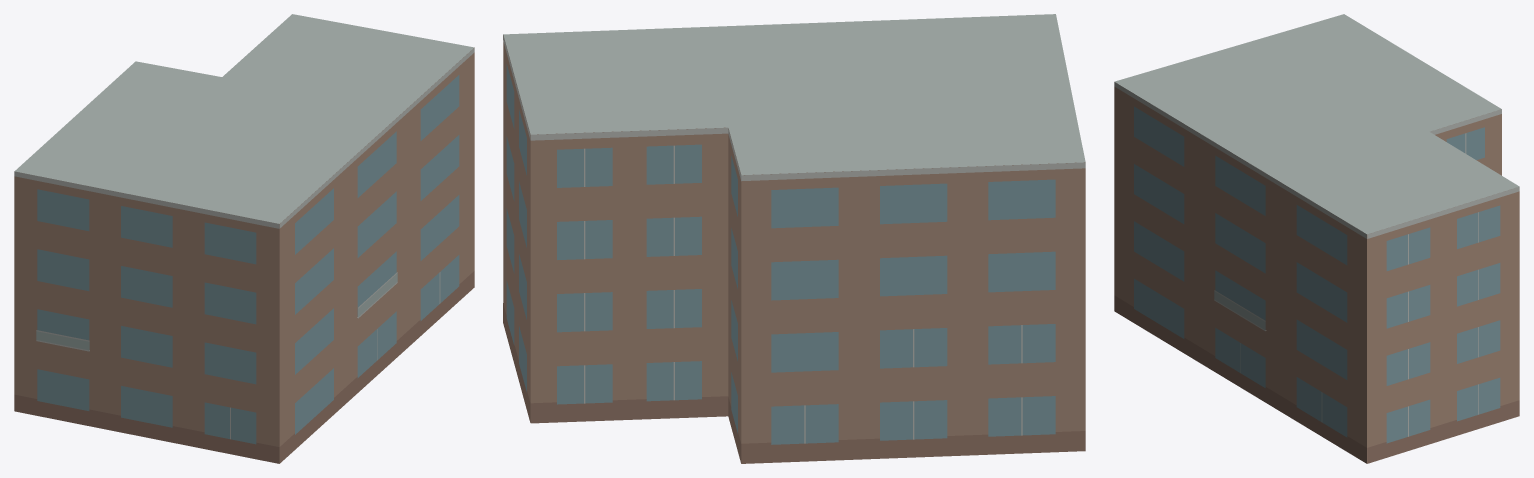
File: survey-upis-32826914.glb
3 views of the same model, side by side, from view 1: azimuth 30°, elevation 25°; view 2: azimuth 150°, elevation 25°; view 3: azimuth 270°, elevation 25° (orthographic). The views are drawn at different scales.
Visible parts, largest first — view 1: survey-upis-32826914.tmp; view 2: survey-upis-32826914.tmp; view 3: survey-upis-32826914.tmp.
Boxes of the visible parts, x1=… form: survey-upis-32826914.tmp: x1=14, y1=14, x2=474, y2=463; survey-upis-32826914.tmp: x1=503, y1=14, x2=1085, y2=463; survey-upis-32826914.tmp: x1=1114, y1=14, x2=1519, y2=463.
Size of the model in its own units: 24.31 by 11.8 by 18.9.
